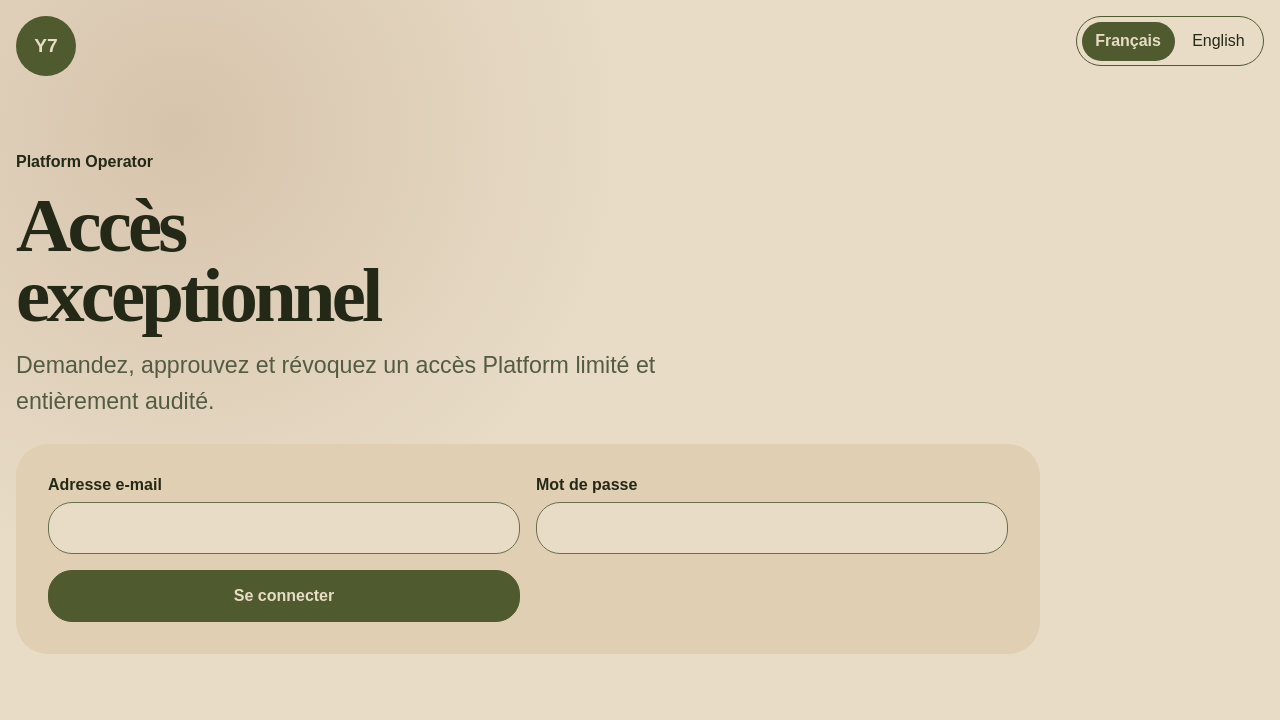
root orientation › BDD-PLAT-234 routes /platform/access to the protected bilingual workflow
Expected: the heading "Accès exceptionnel" is shown, x1=16 y1=183 x2=380 y2=338
Click the button "English" at (1218, 41), box x1=1178 y1=22 x2=1258 y2=61
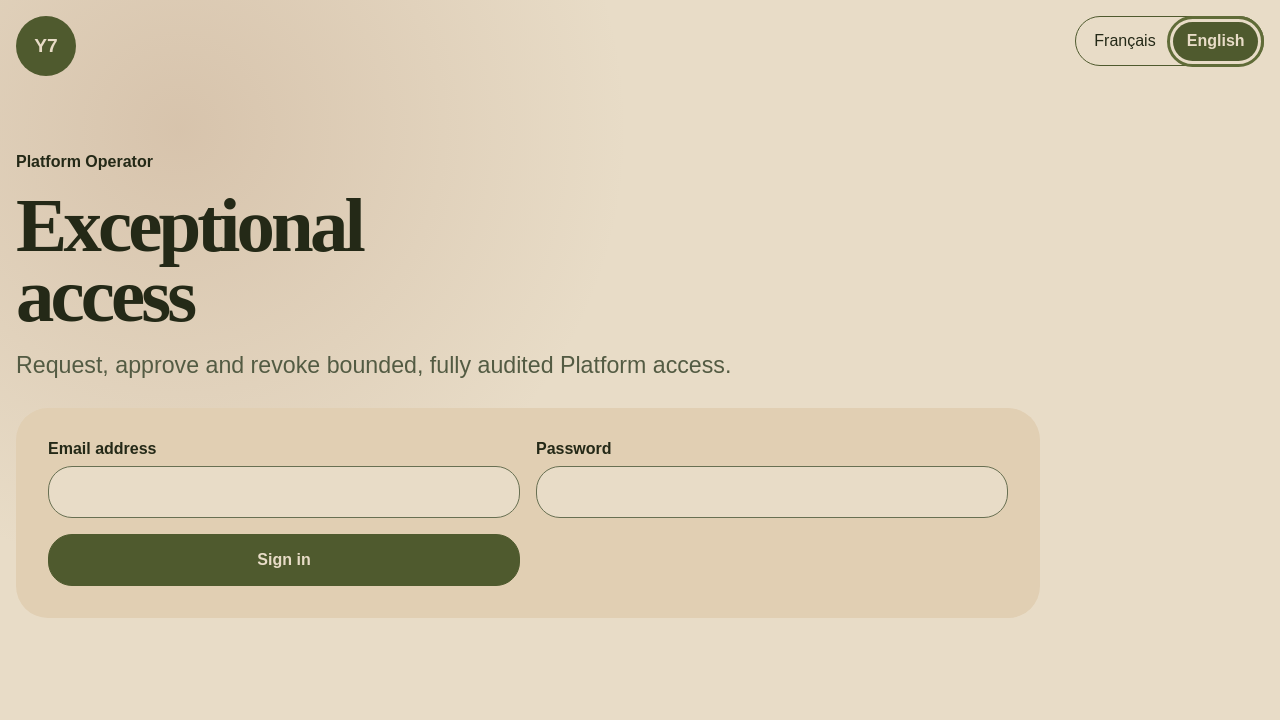
Now the heading "Exceptional access" is shown, box x1=16 y1=183 x2=362 y2=338
